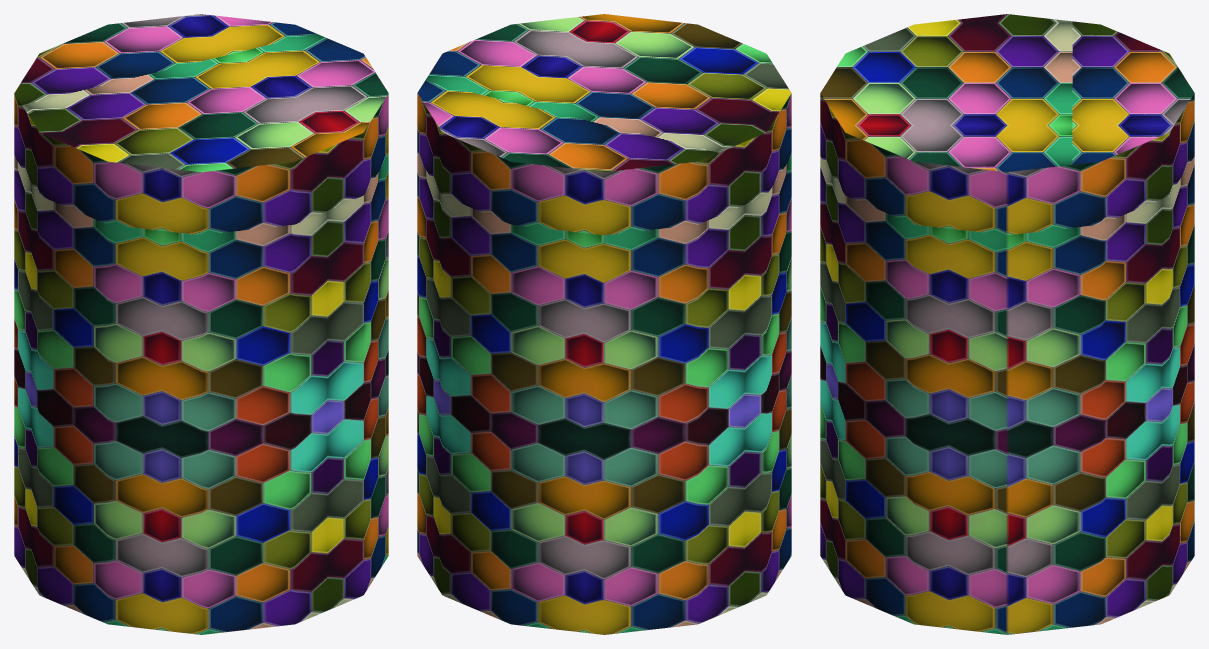
The model's file is PIL0110016.FBX.
The picture shows the model from 3 angles, left to right: view 1: azimuth 30°, elevation 25°; view 2: azimuth 150°, elevation 25°; view 3: azimuth 270°, elevation 25°; orthographic projection.
Visible parts, largest first — view 1: smPIL0110016; view 2: smPIL0110016; view 3: smPIL0110016.
Boxes of the visible parts, x1,y1,x2,y2 form: smPIL0110016: (14, 14, 388, 634); smPIL0110016: (417, 14, 791, 634); smPIL0110016: (820, 14, 1194, 634).
Size of the model in its own units: 0.6275 by 0.8557 by 0.6275.
Materials: 1 (1 with a texture image).
